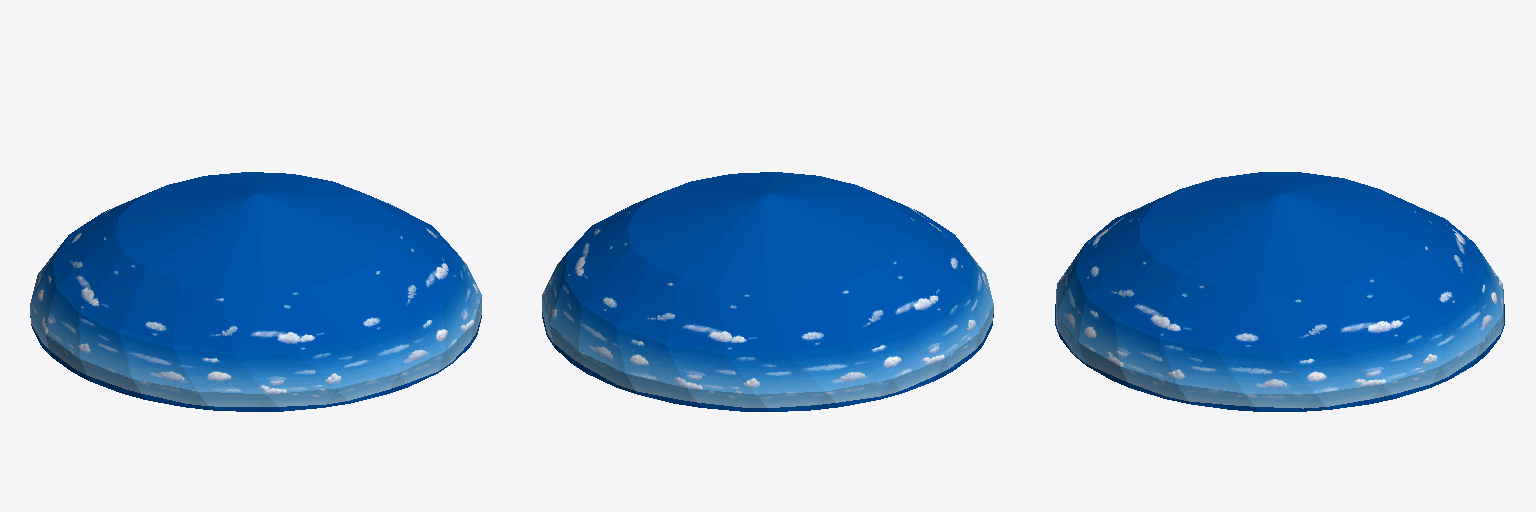
3 views of the same model, side by side, from view 1: azimuth 30°, elevation 25°; view 2: azimuth 150°, elevation 25°; view 3: azimuth 270°, elevation 25° (orthographic).
Visible parts, largest first — view 1: Group4; view 2: Group4; view 3: Group4.
Boxes of the visible parts, x1=… form: Group4: x1=30, y1=172, x2=481, y2=411; Group4: x1=542, y1=172, x2=993, y2=411; Group4: x1=1055, y1=172, x2=1504, y2=411.
Size of the model in its own units: 260798 by 79722 by 260798.
14 materials, 13 textured.